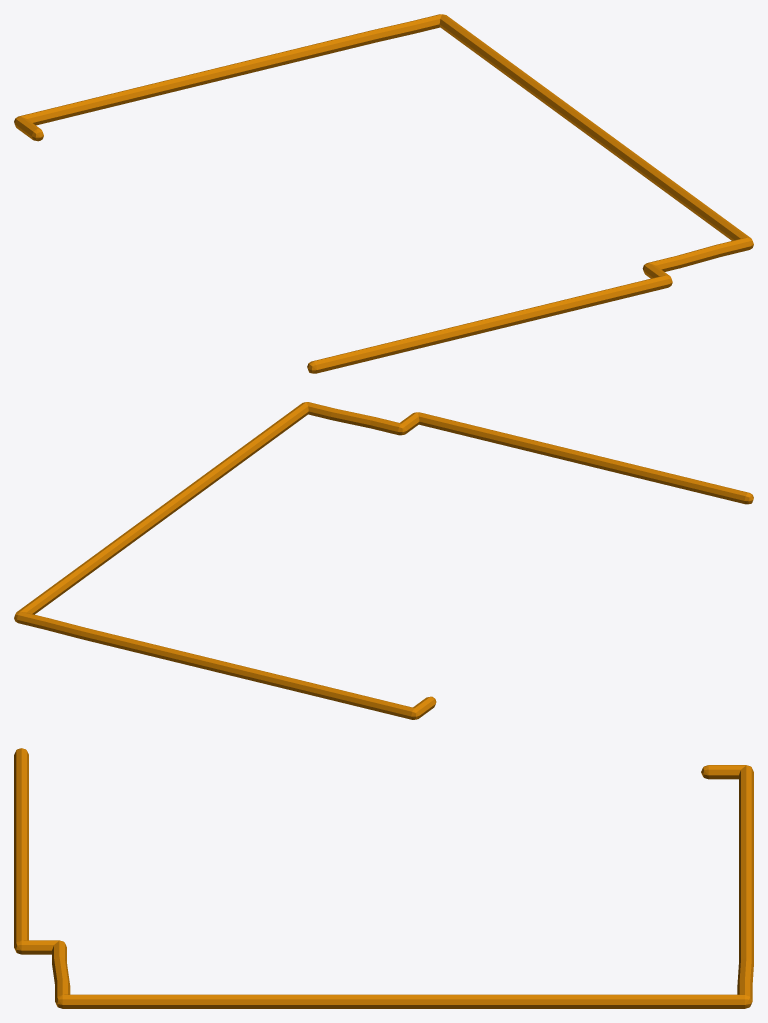
The picture shows the model from 3 angles, top to bottom: view 1: azimuth 30°, elevation 25°; view 2: azimuth 150°, elevation 25°; view 3: azimuth 270°, elevation 25°; orthographic projection. The views are drawn at different scales.
Bounding box in the file's own units: 789 × 20 × 976.
